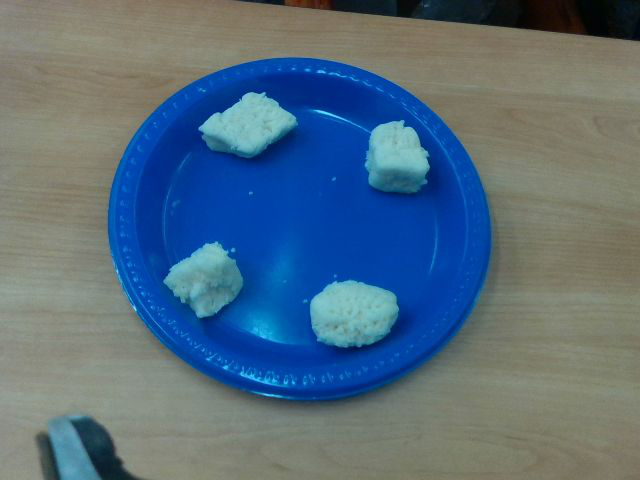mashed_potato: (198, 92, 297, 156), (163, 243, 243, 318), (310, 280, 397, 347), (366, 121, 429, 192)
